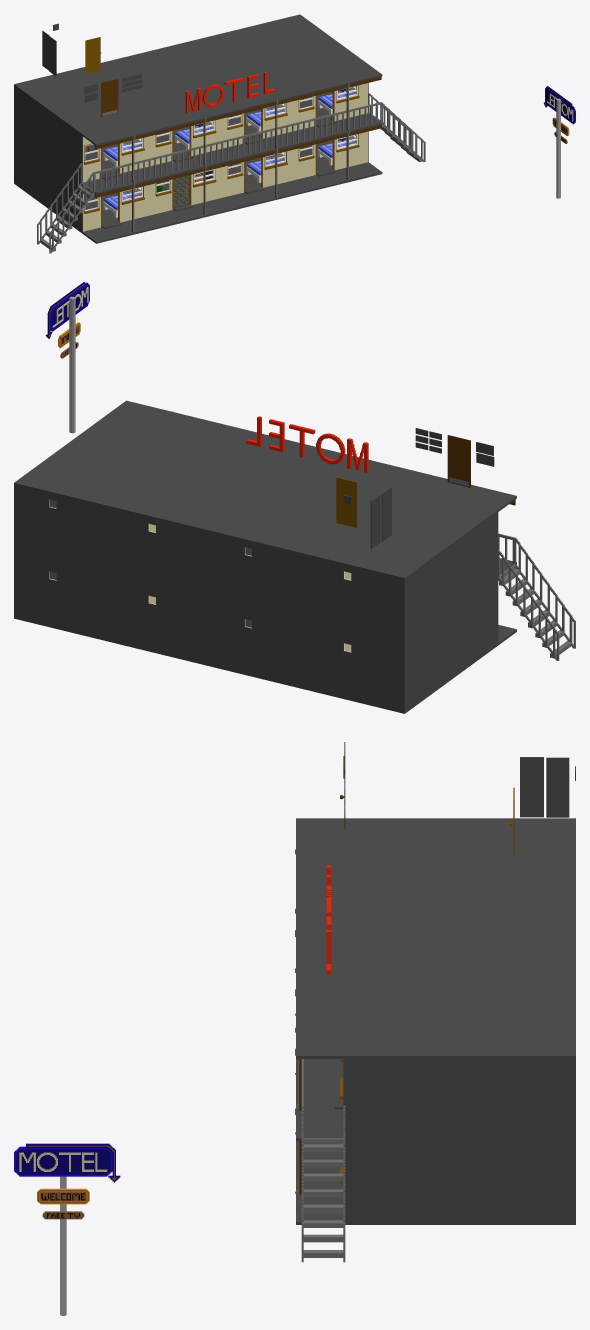
Rendered from motel.fbx.
The picture shows the model from 3 angles, top to bottom: view 1: azimuth 30°, elevation 25°; view 2: azimuth 150°, elevation 25°; view 3: azimuth 270°, elevation 25°; orthographic projection. The views are drawn at different scales.
Parts seen in each view (by area): view 1: motel outside right, motel outside left, stairs right, motel inside left, stairs left, motel inside right, door outside, signboard.001, door bathroom, shower cabin, signboard; view 2: motel outside right, motel outside left, stairs right, door outside, shower cabin, signboard.001, door bathroom, signboard; view 3: motel outside left, motel outside right, stairs left, signboard.001, shower cabin, signboard.002, signboard.
Boxes of the visible parts, box(x1,y1,x2,y2) form: motel outside right: box(14, 49, 239, 243); motel outside left: box(157, 14, 382, 208); stairs right: box(37, 163, 94, 253); motel inside left: box(246, 86, 355, 182); stairs left: box(368, 93, 425, 162); motel inside right: box(103, 121, 212, 217); door outside: box(101, 79, 118, 117); signboard.001: box(544, 86, 575, 124); door bathroom: box(85, 37, 100, 73); shower cabin: box(42, 30, 56, 76); signboard: box(556, 98, 560, 198); motel outside right: box(209, 448, 516, 713); motel outside left: box(14, 400, 316, 665); stairs right: box(497, 537, 575, 660); door outside: box(447, 435, 470, 487); shower cabin: box(370, 486, 391, 548); signboard.001: box(45, 282, 89, 338); door bathroom: box(336, 477, 357, 527); signboard: box(69, 296, 75, 433); motel outside left: box(295, 937, 575, 1224); motel outside right: box(295, 818, 575, 1074); stairs left: box(301, 1105, 345, 1262); signboard.001: box(14, 1143, 120, 1182); shower cabin: box(520, 757, 569, 817); signboard.002: box(37, 1188, 89, 1204); signboard: box(60, 1176, 66, 1315).
Bounding box in the file's own units: 7909 × 2550 × 5119.
